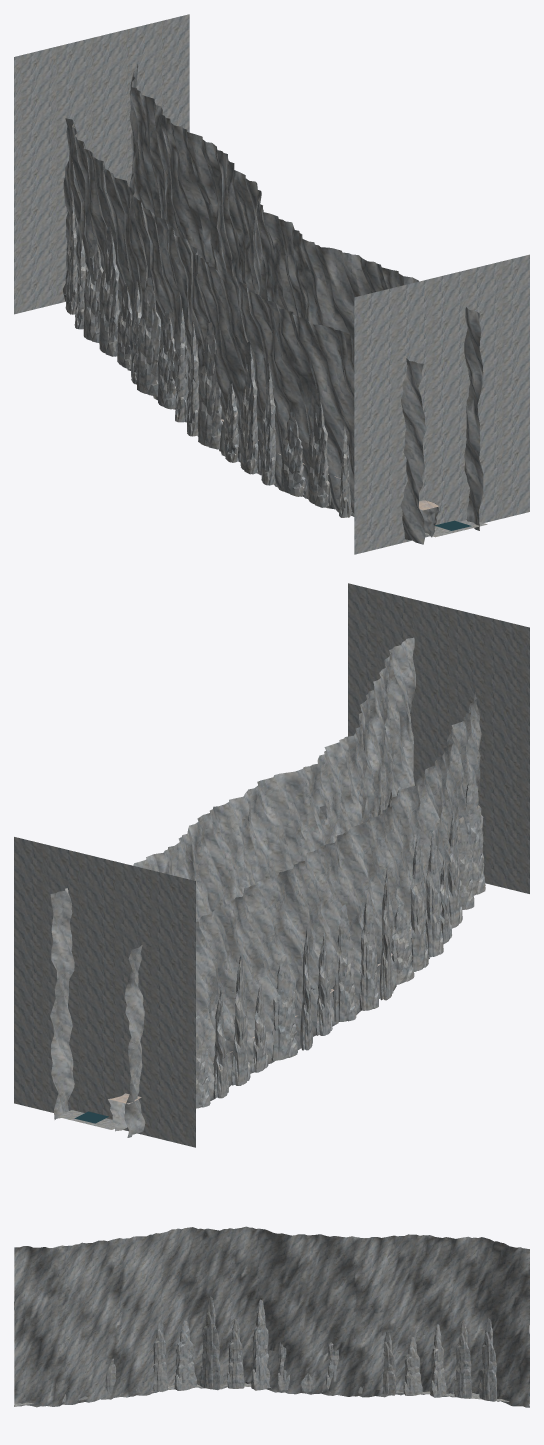
File: room.glb
3 renders of one model, top to bottom at view 1: azimuth 30°, elevation 25°; view 2: azimuth 150°, elevation 25°; view 3: azimuth 270°, elevation 25°, orthographic. The views are drawn at different scales.
Parts seen in each view (by area): view 1: RAVINE-LEDGE; view 2: RAVINE-LEDGE; view 3: RAVINE-LEDGE.
Boxes of the visible parts, box(x1,y1,x2,y2) form: RAVINE-LEDGE: box(14, 14, 529, 554); RAVINE-LEDGE: box(14, 583, 529, 1147); RAVINE-LEDGE: box(14, 1226, 529, 1407).
Size of the model in its own units: 31.62 by 42 by 104.
Materials: 1 (1 with a texture image).
